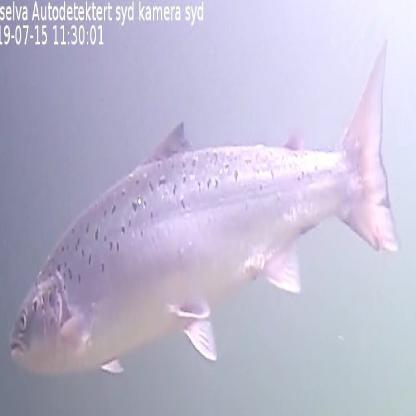salmon: (6, 23, 400, 384)
